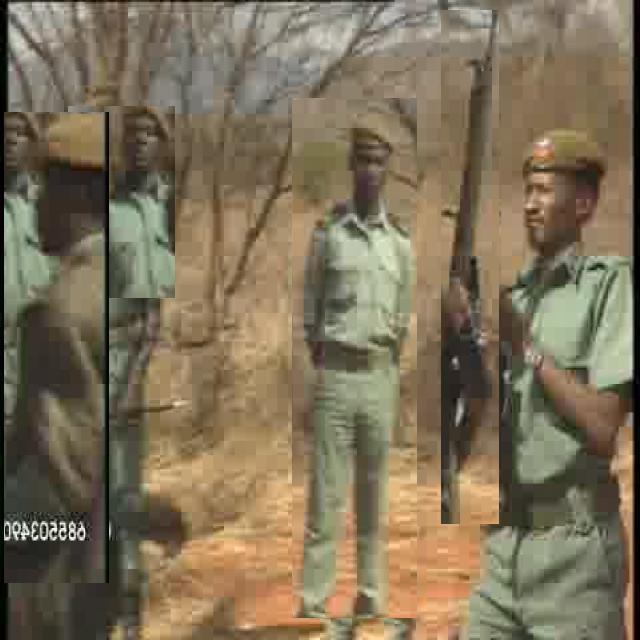poacher: (292, 97, 417, 618), (4, 112, 109, 583), (511, 110, 606, 624), (68, 106, 175, 298)
weapon: (441, 11, 499, 524)
